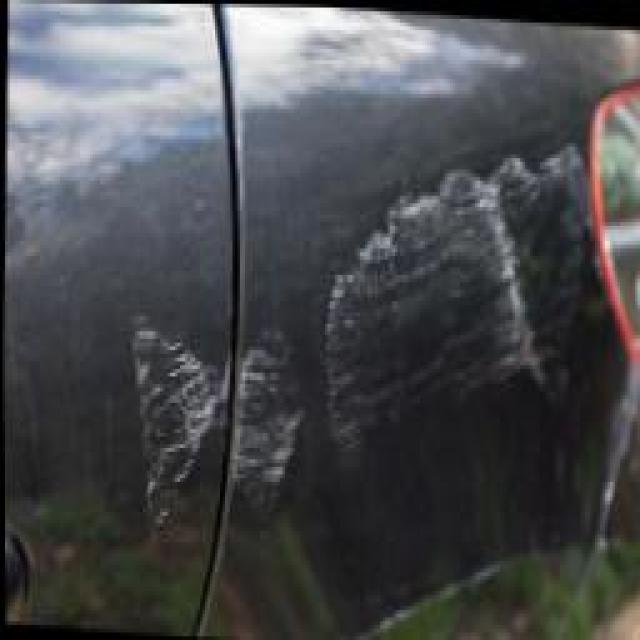Door: (105, 290, 235, 559)
Fender: (222, 105, 611, 575)
